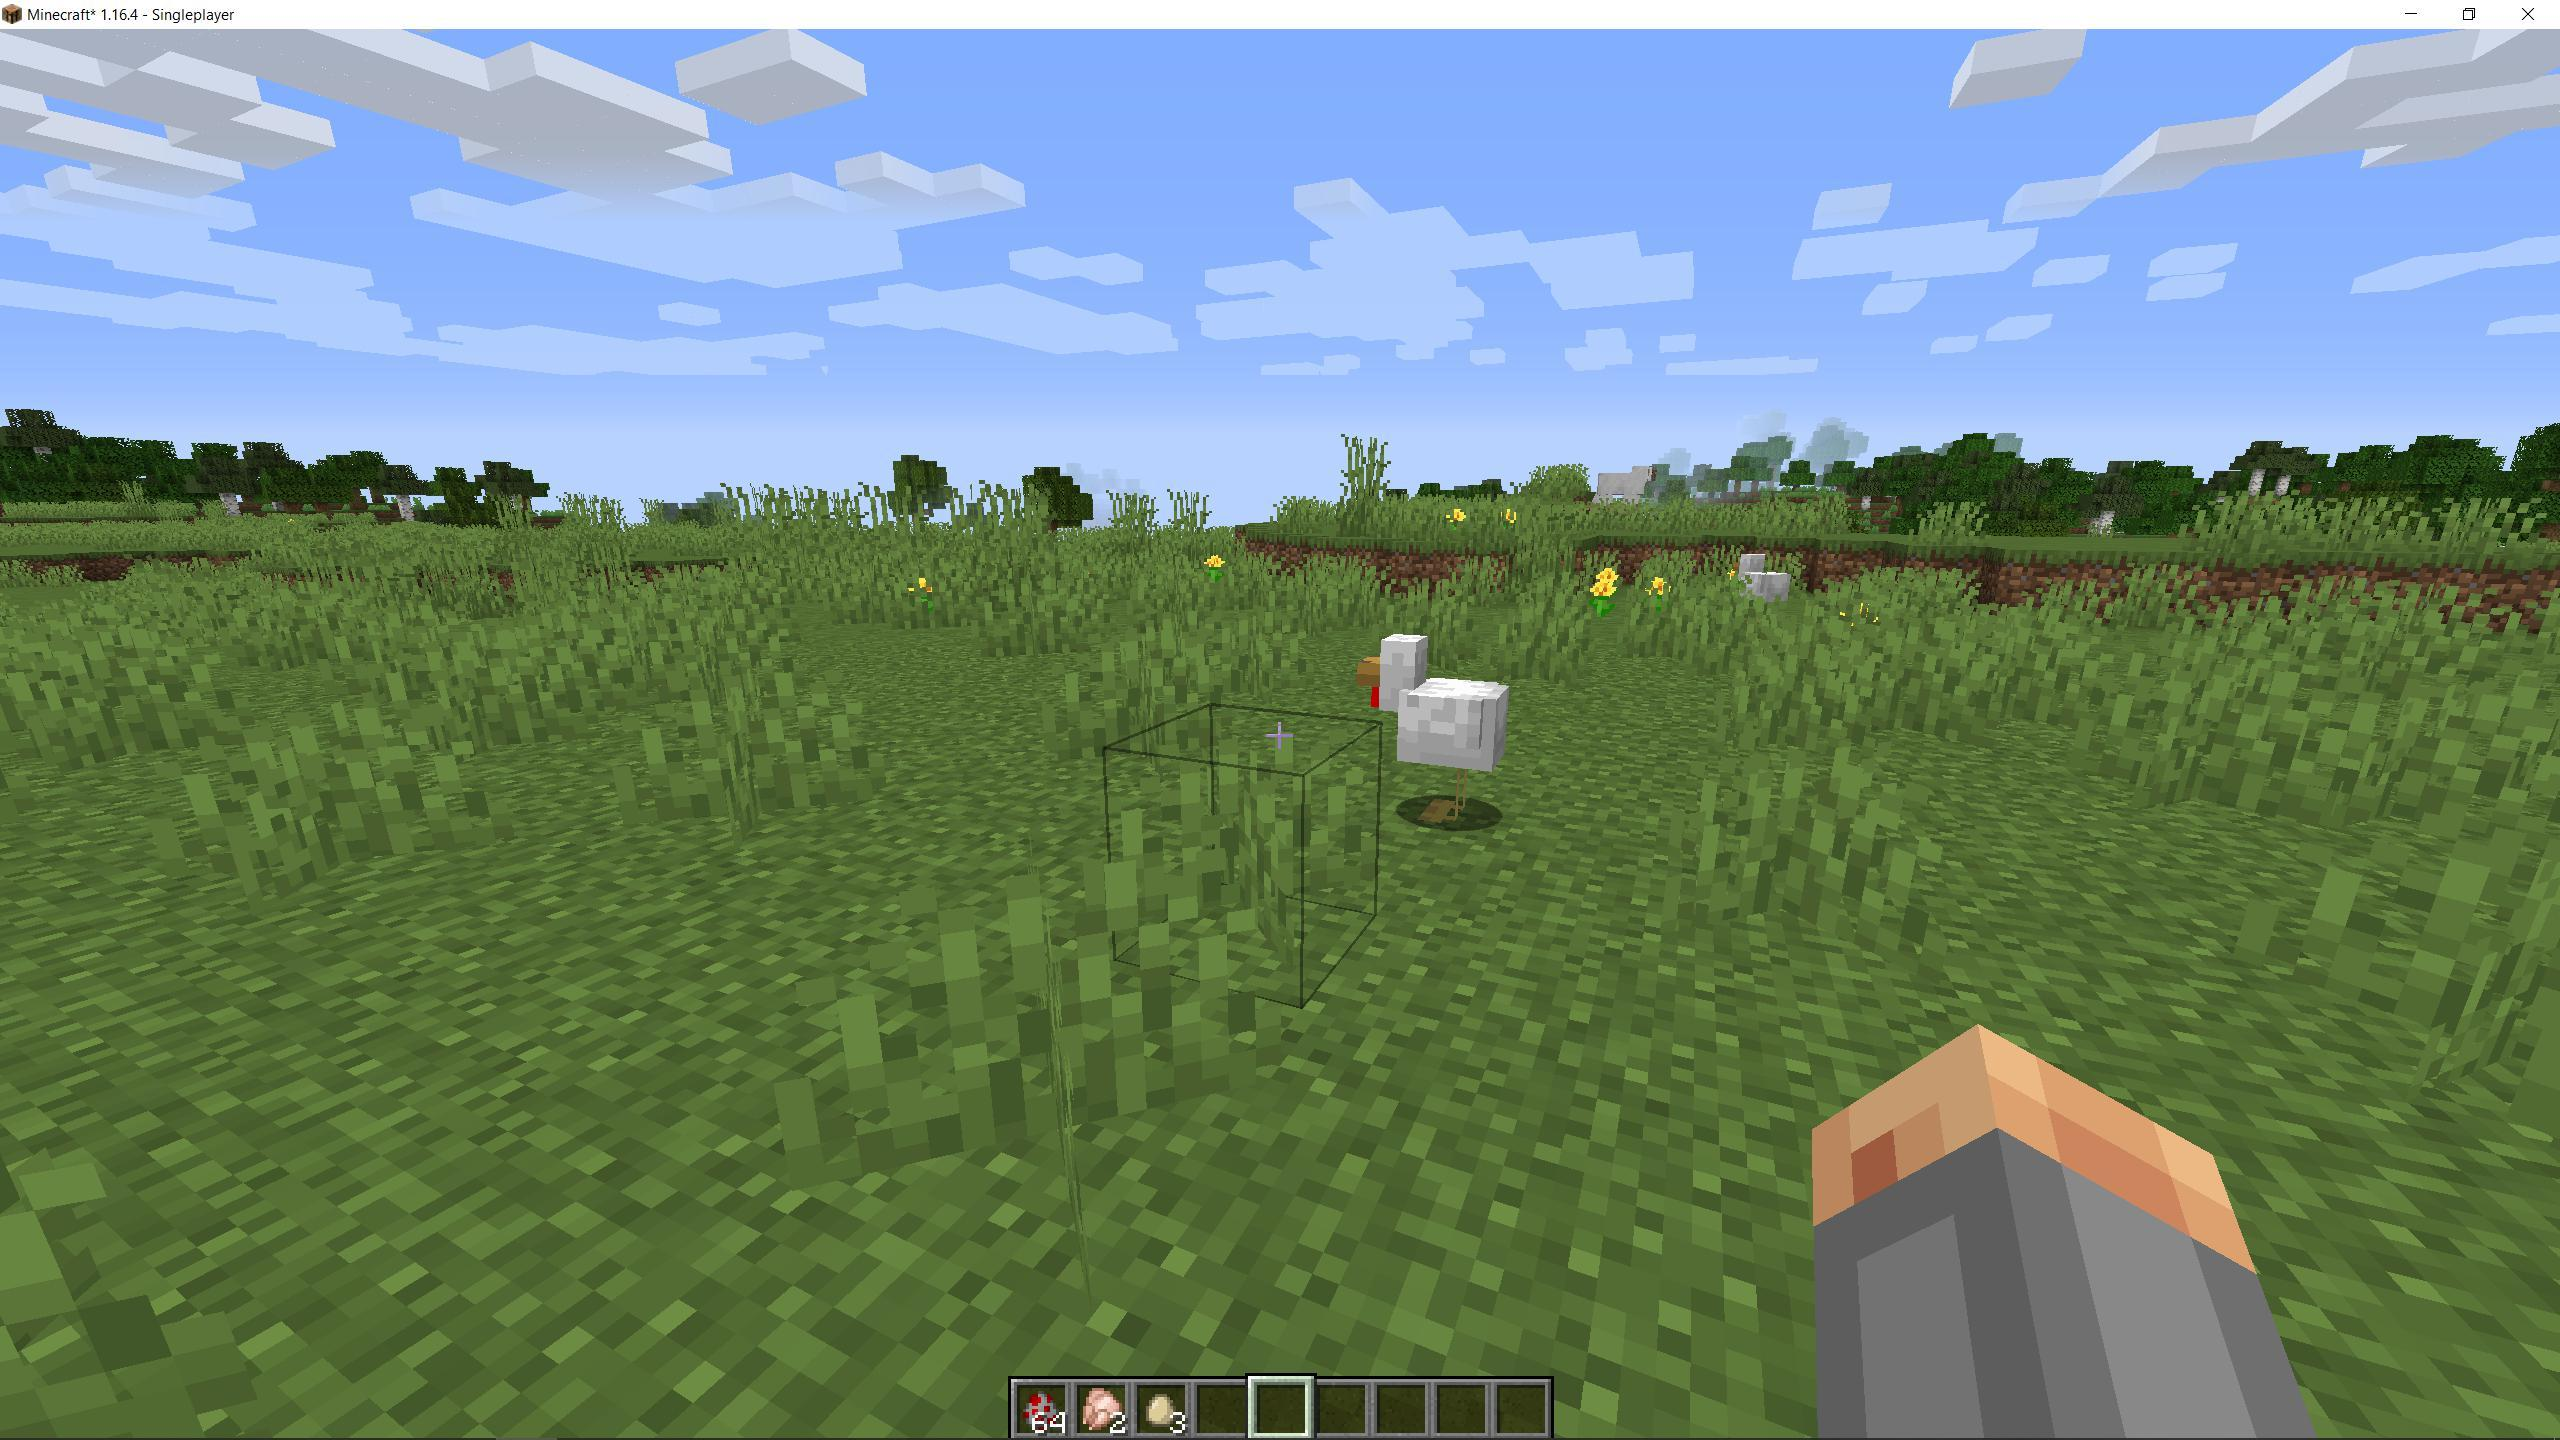chicken: (1349, 624, 1531, 842), (1714, 543, 1795, 642)
